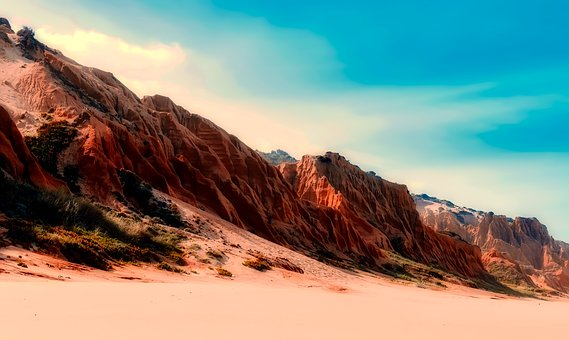mountain: (24, 57, 569, 337)
sky: (119, 9, 564, 174)
